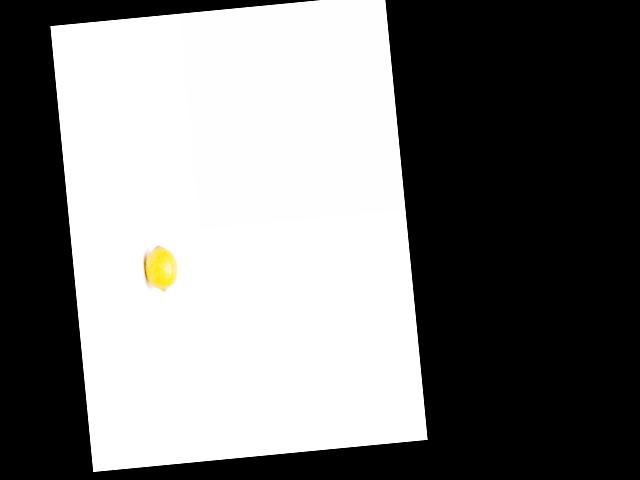lemon: (138, 243, 181, 297)
